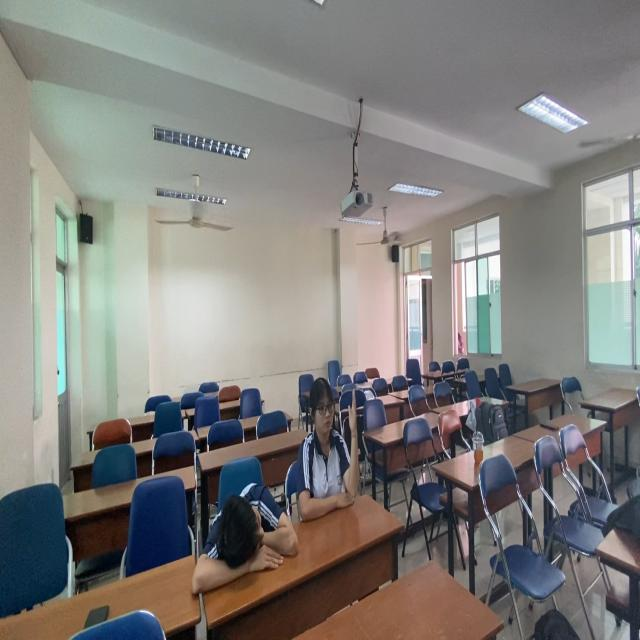raise_hand: (295, 365, 366, 512)
sleep: (182, 468, 299, 590)
